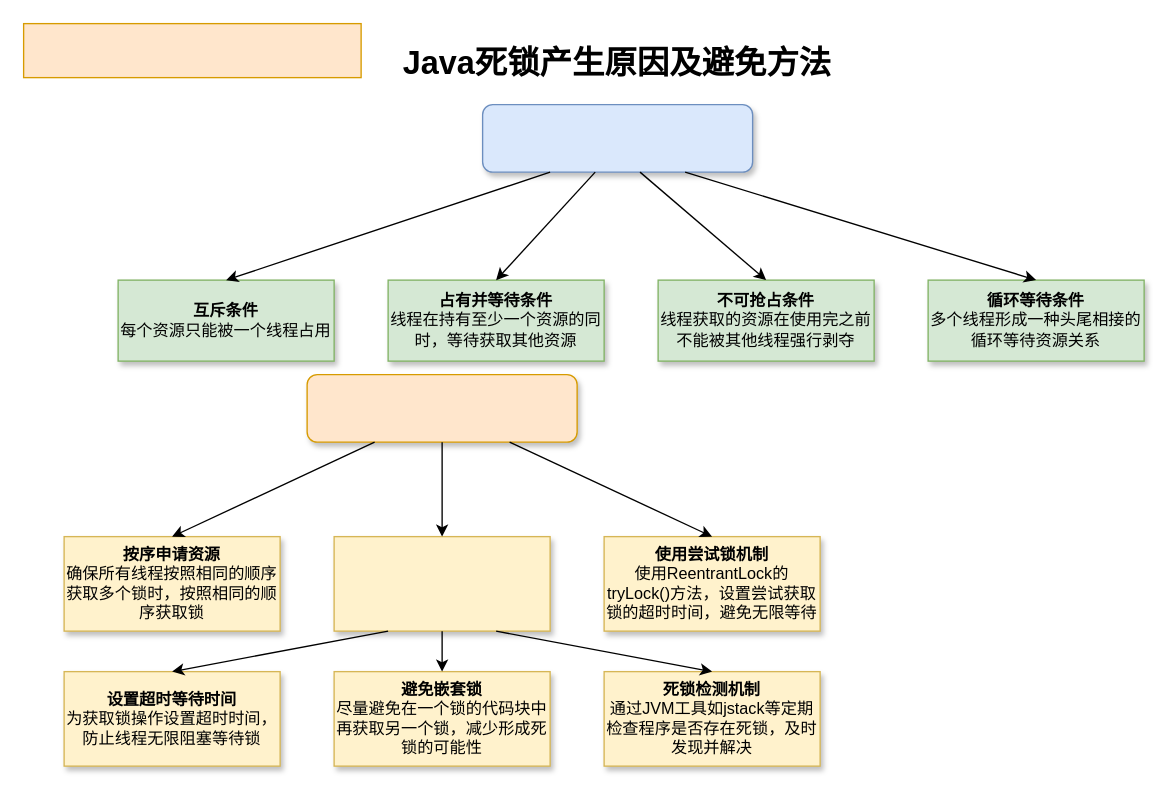
Some shapes in this 1176 by 799 pixel diagram are drawn without their labels. The shapes that lost their labels are listed below. From the top down, each one's centre as x and y in pixels, then its label:
the point at 191,50: .Java中什么情况会导致死锁？
the point at 618,140: 死锁产生的必要条件
the point at 442,410: 避免死锁的方法
the point at 442,585: 尽量减少锁的范围 将锁的粒度尽可能缩小，减少持有锁的时间，可通过拆分锁或使用更细粒度的锁来实现
